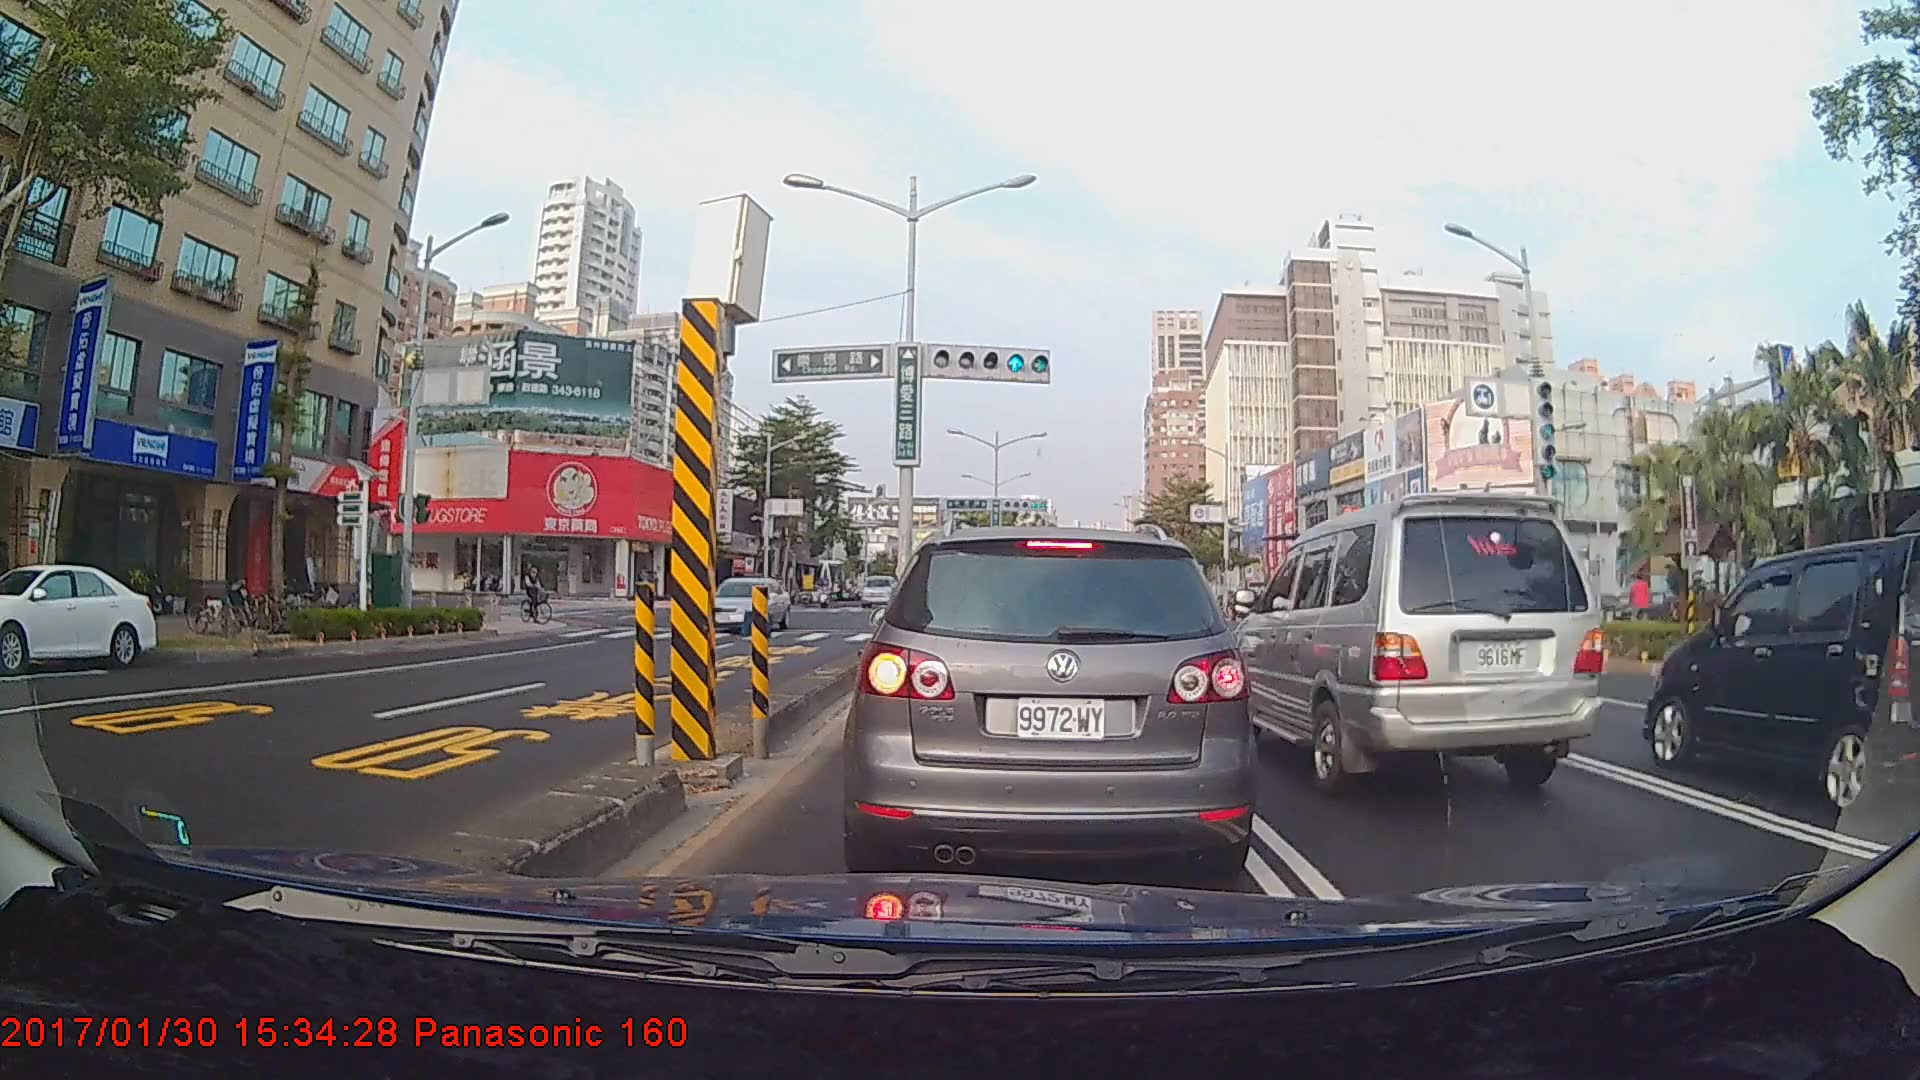rider: (518, 559, 561, 629)
vehicle: (852, 521, 1248, 884), (1222, 493, 1606, 794), (1642, 534, 1920, 818), (0, 561, 157, 671), (700, 574, 790, 635), (857, 572, 898, 607)
